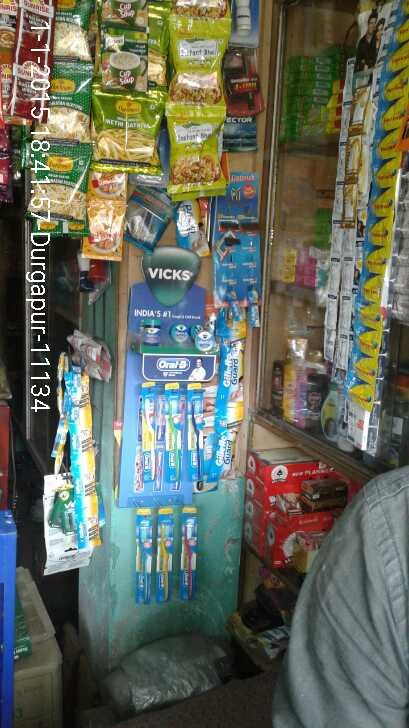beauty: (57, 364, 110, 554), (208, 405, 247, 487), (217, 322, 248, 407)
pharmacy: (171, 511, 209, 602), (157, 385, 188, 486), (186, 379, 210, 485), (127, 510, 154, 603), (134, 380, 156, 492), (135, 307, 193, 347), (155, 511, 175, 603)
